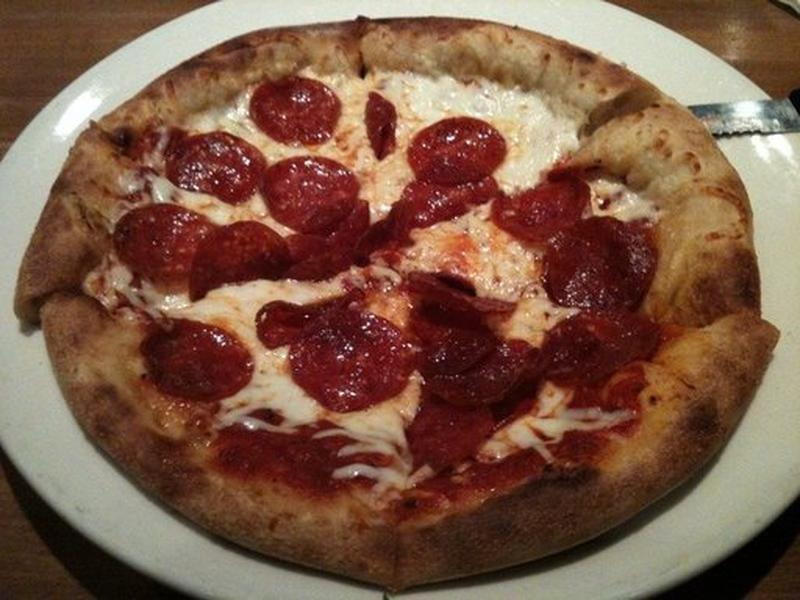pizza: (45, 8, 800, 557)
